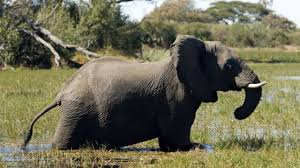Elephant: (16, 37, 271, 161)
